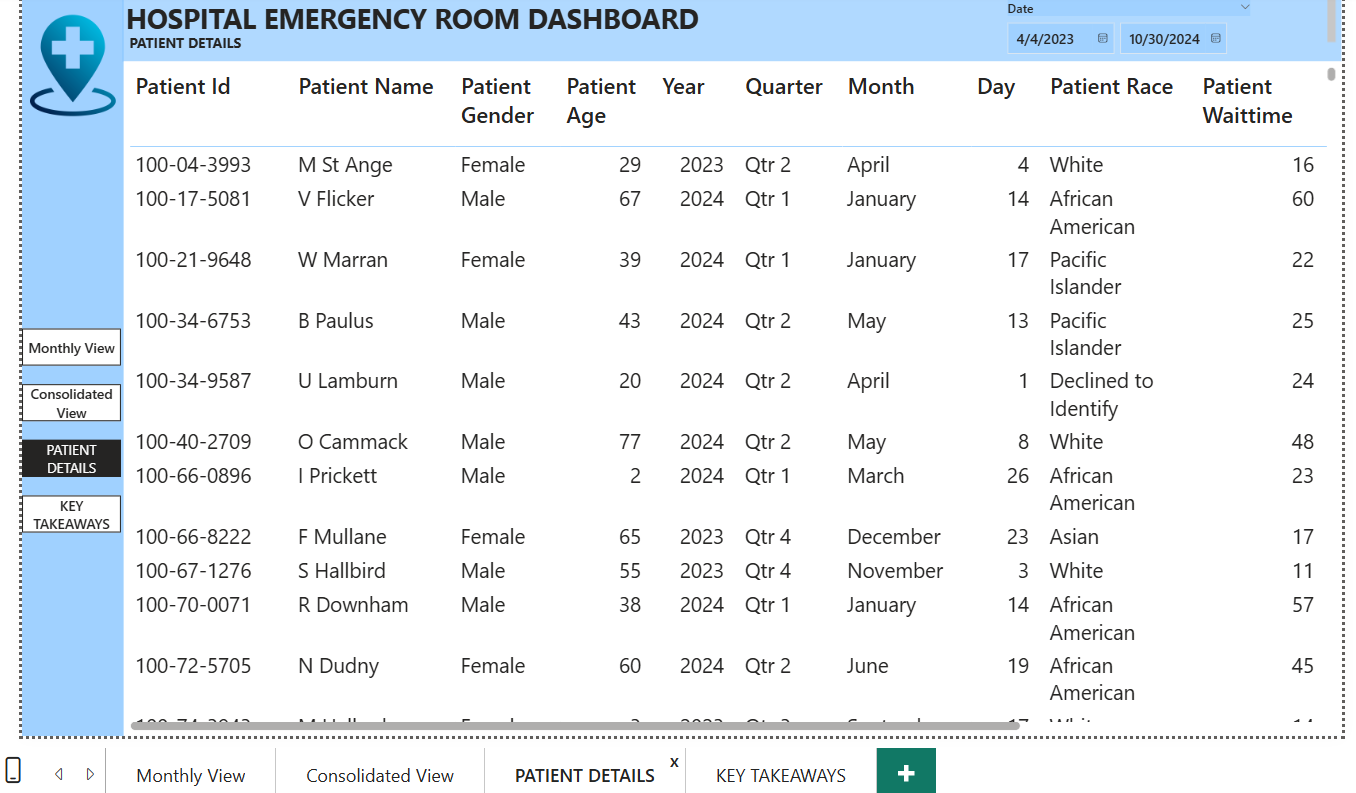

This screenshot's page, from the dashboard's own definition file:
{"tool":"powerbi","page":{"name":"PATIENT DETAILS","canvas":[1280,720],"ordinal":2},"visuals":[{"type":"shape","box":[0,0,98.6,720],"z":0},{"type":"shape","box":[97.7,0,1182.8,65.5],"z":1000},{"type":"textbox","box":[96.6,0,1183.6,64.7],"z":2000},{"type":"textbox","box":[98.8,32.5,150,32.5],"z":3000},{"type":"image","box":[0,0,98.6,138.6],"z":4000},{"type":"slicer","fields":{"Values":["Date Table.Date"]},"box":[942.9,0,261.4,64.3],"z":5000},{"type":"tableEx","fields":{"Values":["Hospital ER_Data.Patient Id","Hospital ER_Data.Patient Full Name","Hospital ER_Data.Patient Gender","Sum(Hospital ER_Data.Patient Age)","Hospital ER_Data.Patient Admission Date.Variation.Date Hierarchy.Year","Hospital ER_Data.Patient Admission Date.Variation.Date Hierarchy.Quarter","Hospital ER_Data.Patient Admission Date.Variation.Date Hierarchy.Month","Hospital ER_Data.Patient Admission Date.Variation.Date Hierarchy.Day","Hospital ER_Data.Patient Race","Sum(Hospital ER_Data.Patient Waittime)","Hospital ER_Data.Department Referral","Hospital ER_Data.Admission Status"]},"box":[99,66,1181,654],"z":6000},{"type":"pageNavigator","box":[0,325,96.7,200],"z":6001}]}

Visuals, with their boxes on the page's 1280x720 design canvas (x1, y1, x2, y2). These are canvas units, not pixel positions in the 1356x793 screenshot, which may show the page scaled, cropped or inside an application window:
shape: 0/0/99/720
shape: 98/0/1280/66
textbox: 97/0/1280/65
textbox: 99/32/249/65
image: 0/0/99/139
slicer - Date Table.Date: 943/0/1204/64
tableEx - Hospital ER_Data.Patient Id x Hospital ER_Data.Patient Full Name: 99/66/1280/720
pageNavigator: 0/325/97/525
